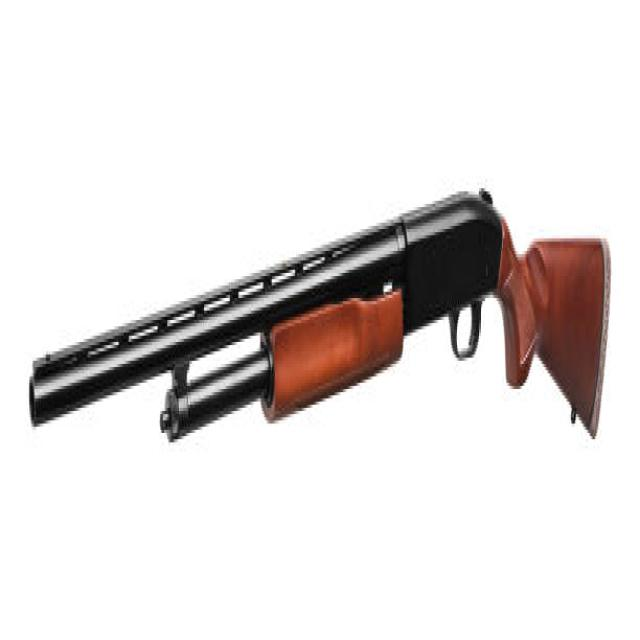rifle: (23, 166, 618, 546)
